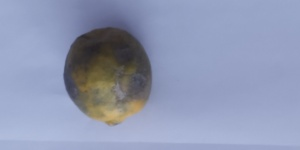BAD: (61, 24, 154, 128)
